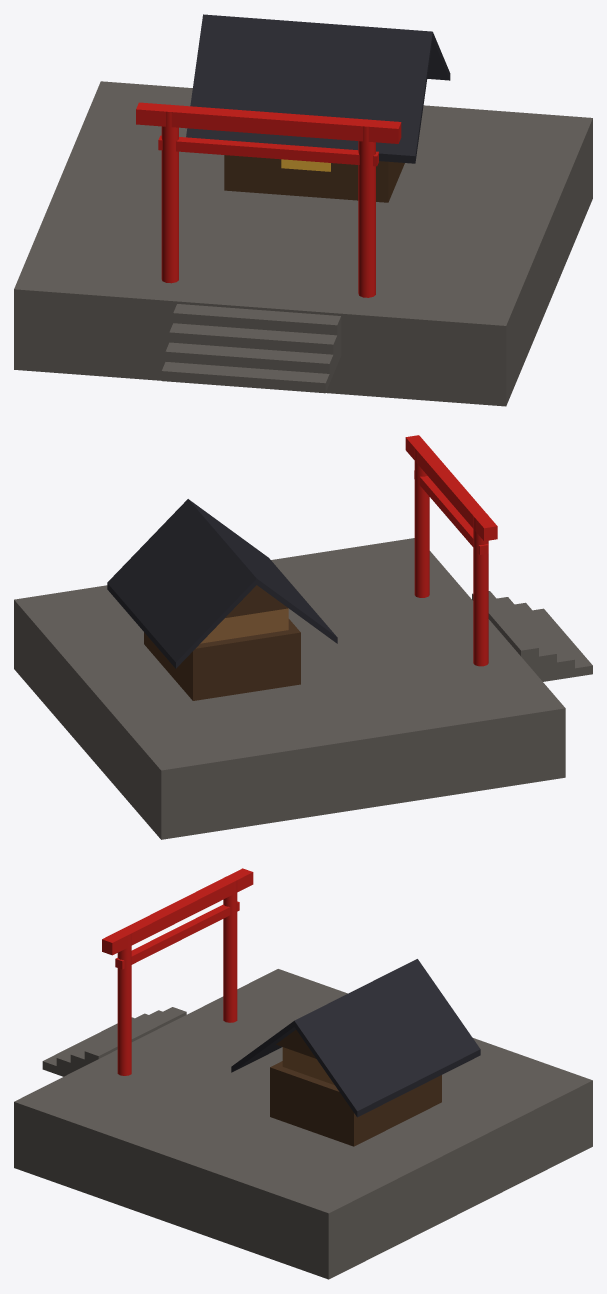
Rendered from SM_Forest_Shrine.fbx.
The picture shows the model from 3 angles, top to bottom: view 1: azimuth 30°, elevation 25°; view 2: azimuth 150°, elevation 25°; view 3: azimuth 270°, elevation 25°; orthographic projection. The views are drawn at different scales.
Visible parts, largest first — view 1: SM_Forest_Shrine; view 2: SM_Forest_Shrine; view 3: SM_Forest_Shrine.
Part boxes in pixels (<box>): SM_Forest_Shrine: <box>14,14,592,406</box>; SM_Forest_Shrine: <box>14,435,592,839</box>; SM_Forest_Shrine: <box>14,868,592,1279</box>.
Bounding box in the file's own units: 12.68 × 5 × 12.68.
